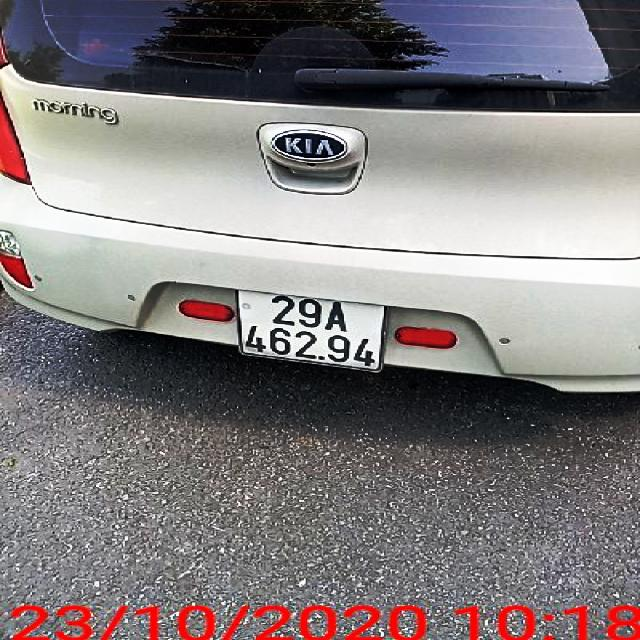license_plate: (239, 291, 391, 372)
